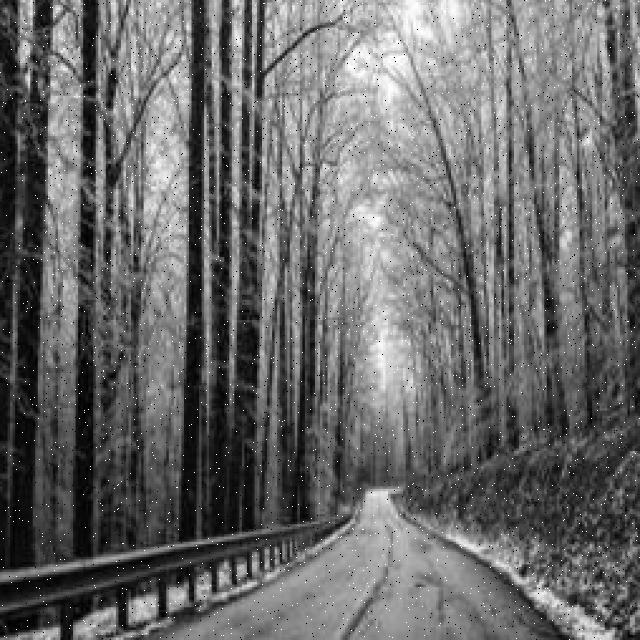clear-road: (147, 491, 563, 640)
